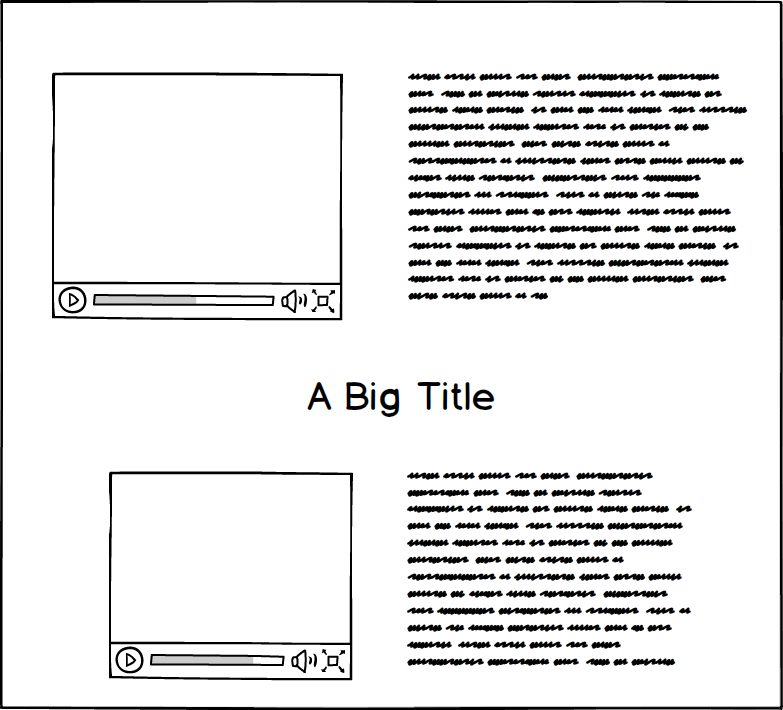h1: (301, 376, 505, 423)
p: (402, 66, 756, 309), (403, 467, 702, 673)
video: (46, 64, 352, 328), (104, 467, 361, 685)
